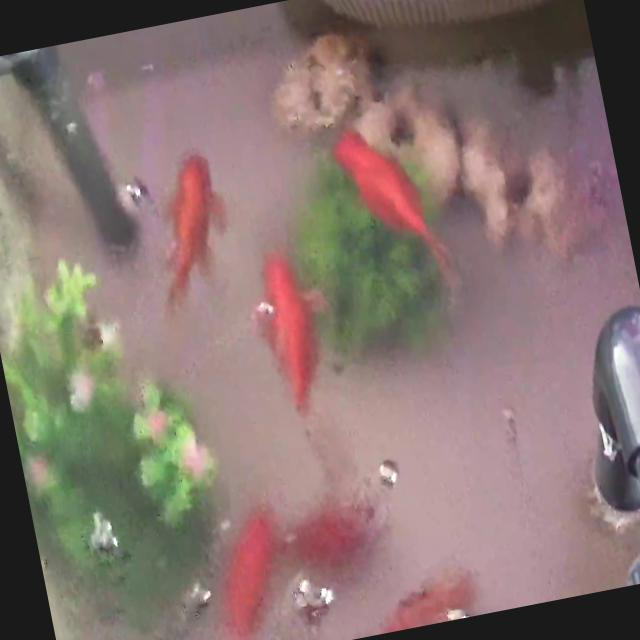fish: (329, 113, 456, 304), (137, 148, 244, 320), (247, 246, 344, 416), (203, 504, 299, 640), (283, 490, 385, 576), (367, 568, 478, 635), (386, 568, 480, 632)
